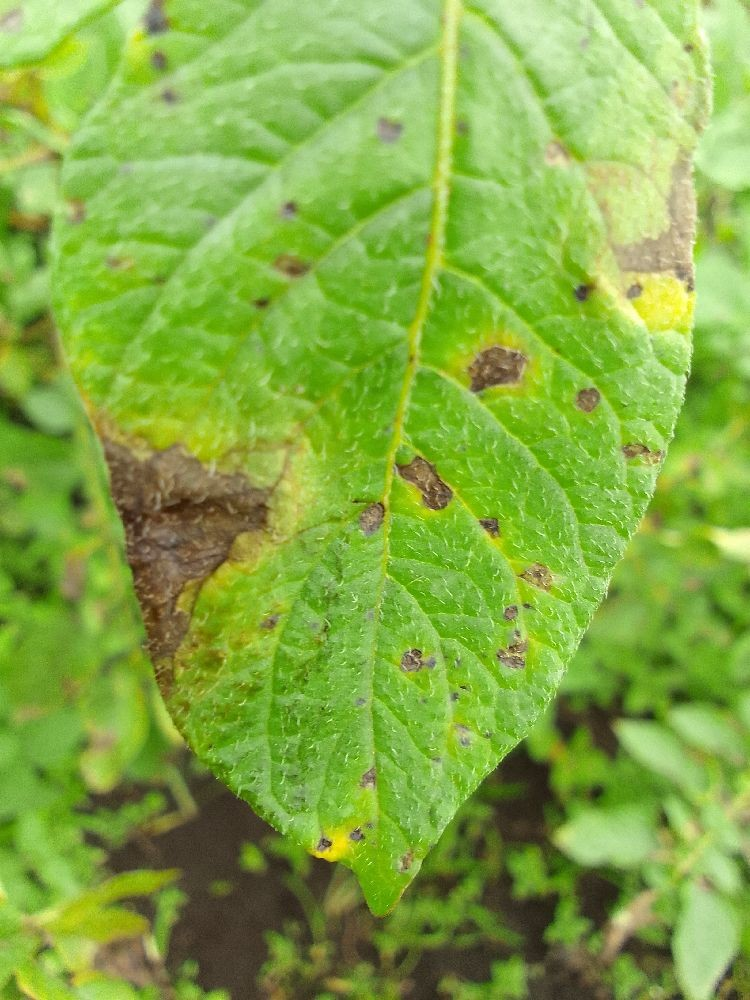late_blight: (52, 758, 684, 999), (57, 378, 310, 735), (599, 147, 709, 315), (539, 677, 663, 775)
